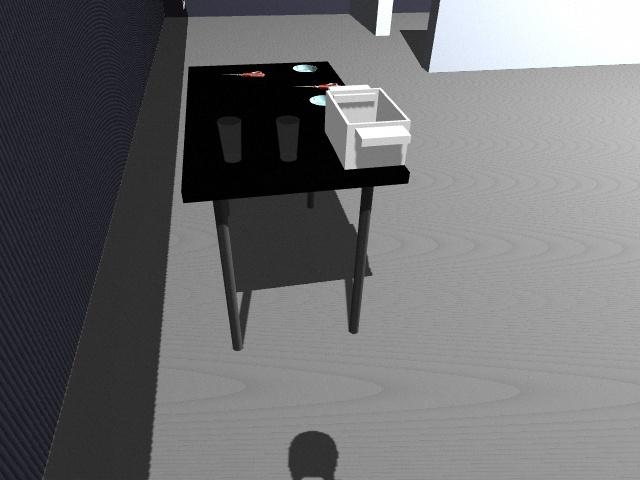cup: (217, 116, 243, 163), (275, 115, 300, 161)
plate: (292, 63, 319, 72), (309, 95, 326, 106)
scissors: (297, 84, 347, 94), (220, 71, 265, 78)
